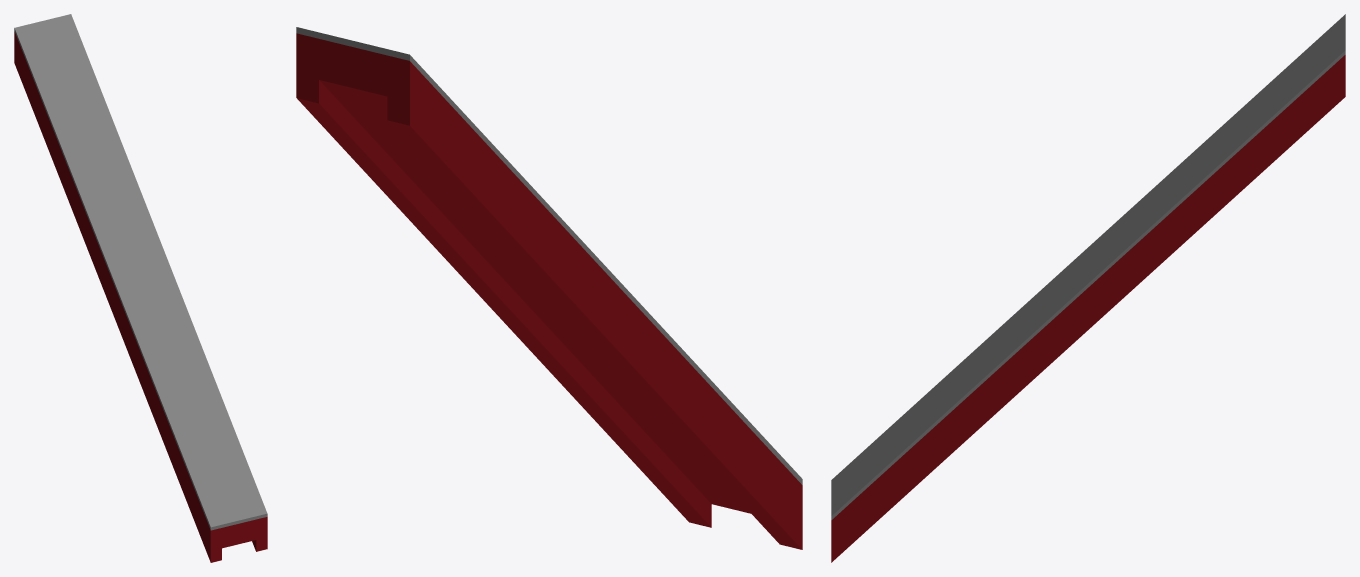
File: SM_MH_01_Slate_Roof_Quarter_01.fbx
The picture shows the model from 3 angles, left to right: view 1: azimuth 30°, elevation 25°; view 2: azimuth 150°, elevation 25°; view 3: azimuth 270°, elevation 25°; orthographic projection. The views are drawn at different scales.
Visible parts, largest first — view 1: SM_MH_01_Slate_Roof_Quarter_01_LOD0; view 2: SM_MH_01_Slate_Roof_Quarter_01_LOD0; view 3: SM_MH_01_Slate_Roof_Quarter_01_LOD0.
Boxes of the visible parts, x1,y1,x2,y2 form: SM_MH_01_Slate_Roof_Quarter_01_LOD0: [14, 14, 267, 562]; SM_MH_01_Slate_Roof_Quarter_01_LOD0: [296, 27, 802, 549]; SM_MH_01_Slate_Roof_Quarter_01_LOD0: [831, 14, 1345, 562].
Size of what is drawn, in the model's own units: 50 by 330 by 300.
